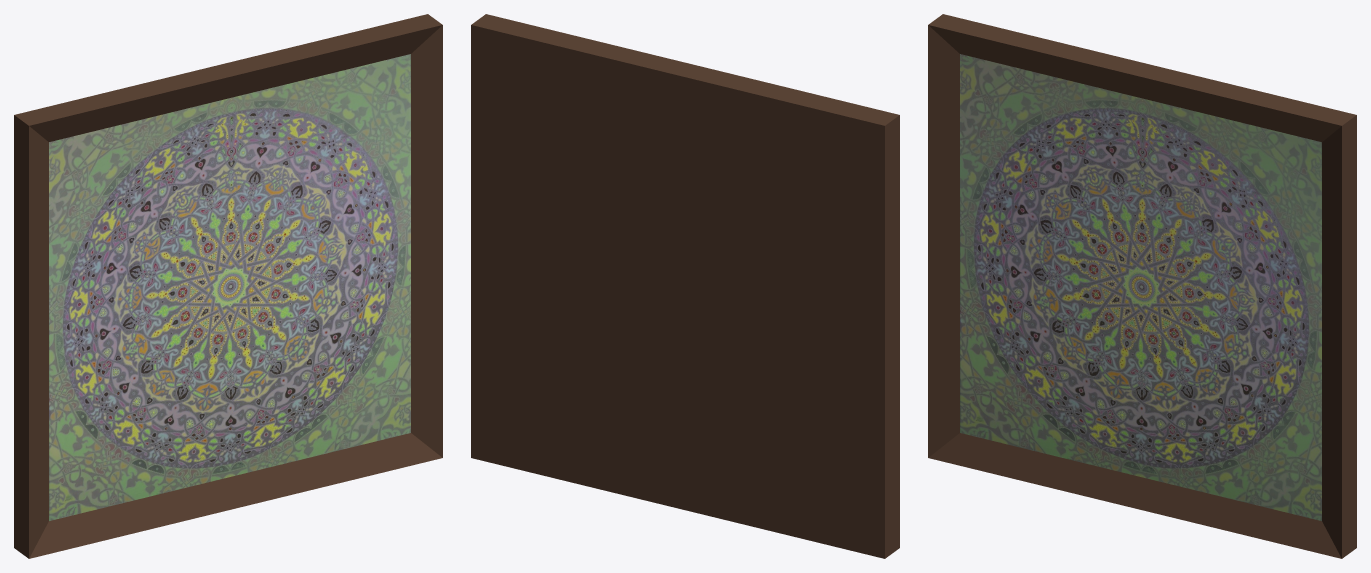
File: tridecagon-moon-star-tridecagon-sage-green-a2-walnut-tray-v2.glb
The picture shows the model from 3 angles, left to right: view 1: azimuth 30°, elevation 25°; view 2: azimuth 150°, elevation 25°; view 3: azimuth 330°, elevation 25°; orthographic projection.
Parts seen in each view (by area): view 1: FramedPrint; view 2: FramedPrint; view 3: FramedPrint.
Boxes of the visible parts, x1,y1,x2,y2 form: FramedPrint: [14, 14, 442, 558]; FramedPrint: [471, 14, 899, 558]; FramedPrint: [928, 14, 1356, 558].
Bounding box in the file's own units: 0.48 × 0.48 × 0.03.
2 materials, 1 textured.
